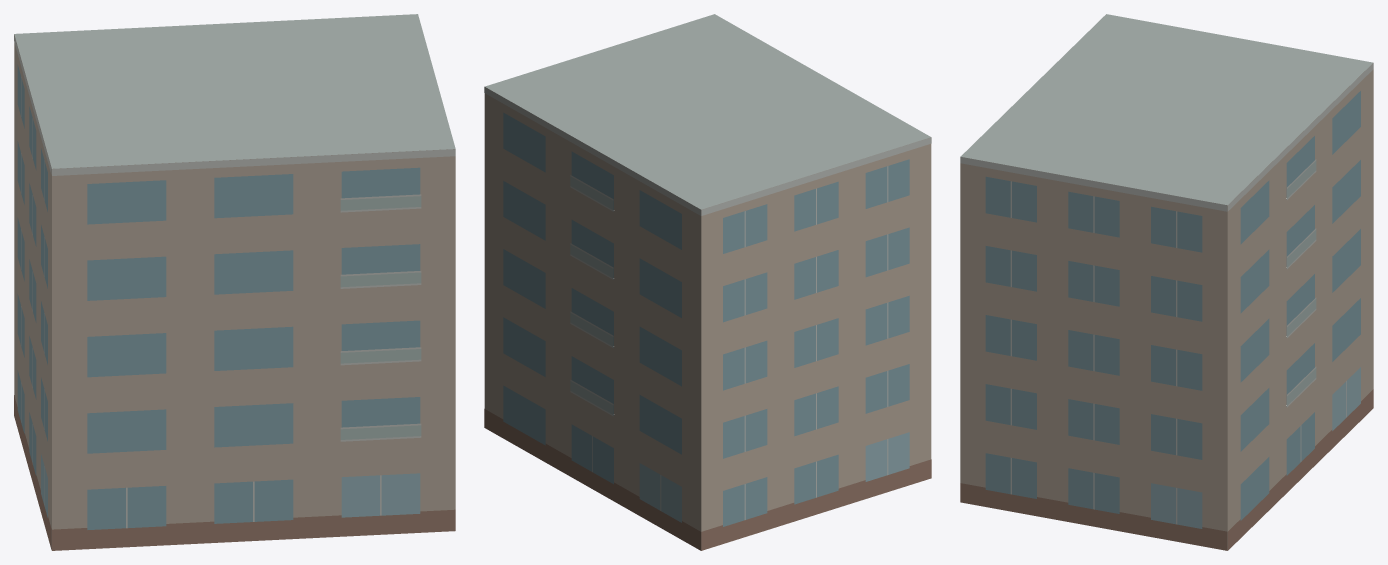
Rendered from survey-upis-32668825.glb.
The picture shows the model from 3 angles, left to right: view 1: azimuth 30°, elevation 25°; view 2: azimuth 150°, elevation 25°; view 3: azimuth 270°, elevation 25°; orthographic projection. The views are drawn at different scales.
Parts seen in each view (by area): view 1: survey-upis-32668825.tmp; view 2: survey-upis-32668825.tmp; view 3: survey-upis-32668825.tmp.
Part boxes in pixels (bbox=[...]): survey-upis-32668825.tmp: bbox=[14, 14, 455, 550]; survey-upis-32668825.tmp: bbox=[484, 14, 931, 550]; survey-upis-32668825.tmp: bbox=[960, 14, 1373, 550].
Bounding box in the file's own units: 15.32 × 12.9 × 13.98.
